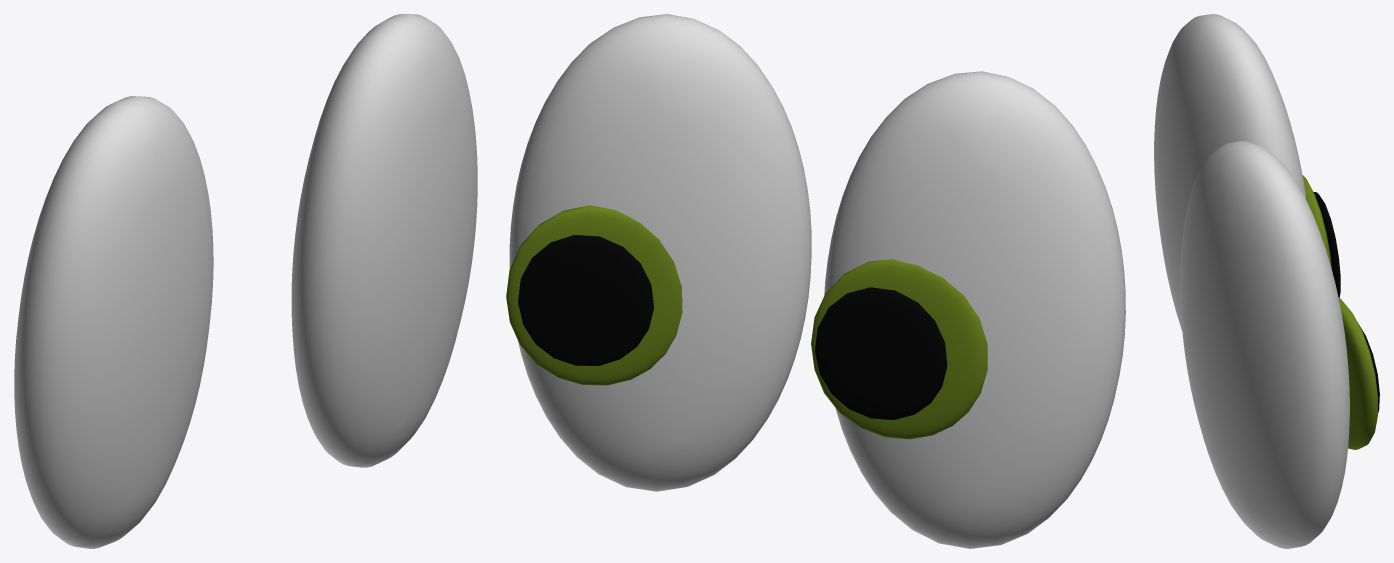
File: eyes FBX.glb
3 renders of one model, left to right at view 1: azimuth 30°, elevation 25°; view 2: azimuth 150°, elevation 25°; view 3: azimuth 270°, elevation 25°, orthographic. The views are drawn at different scales.
Parts seen in each view (by area): view 1: Group47159, Group47157; view 2: Group47159, Group47157, Group45610, Group47158, Group47160, Group7660; view 3: Group47157, Group47159, Group7660, Group47158, Group47160.
Part boxes in pixels (bbox=[...]): Group47159: bbox=[14, 96, 213, 548]; Group47157: bbox=[291, 14, 477, 467]; Group47159: bbox=[824, 71, 1125, 548]; Group47157: bbox=[509, 14, 811, 491]; Group45610: bbox=[518, 235, 653, 365]; Group47158: bbox=[815, 287, 947, 419]; Group47160: bbox=[811, 259, 987, 439]; Group7660: bbox=[506, 205, 682, 385]; Group47157: bbox=[1180, 141, 1349, 548]; Group47159: bbox=[1154, 14, 1305, 330]; Group7660: bbox=[1338, 297, 1377, 449]; Group47158: bbox=[1313, 192, 1340, 297]; Group47160: bbox=[1302, 175, 1331, 268].
Bounding box in the file's own units: 0.5251 × 0.4342 × 0.2222.
